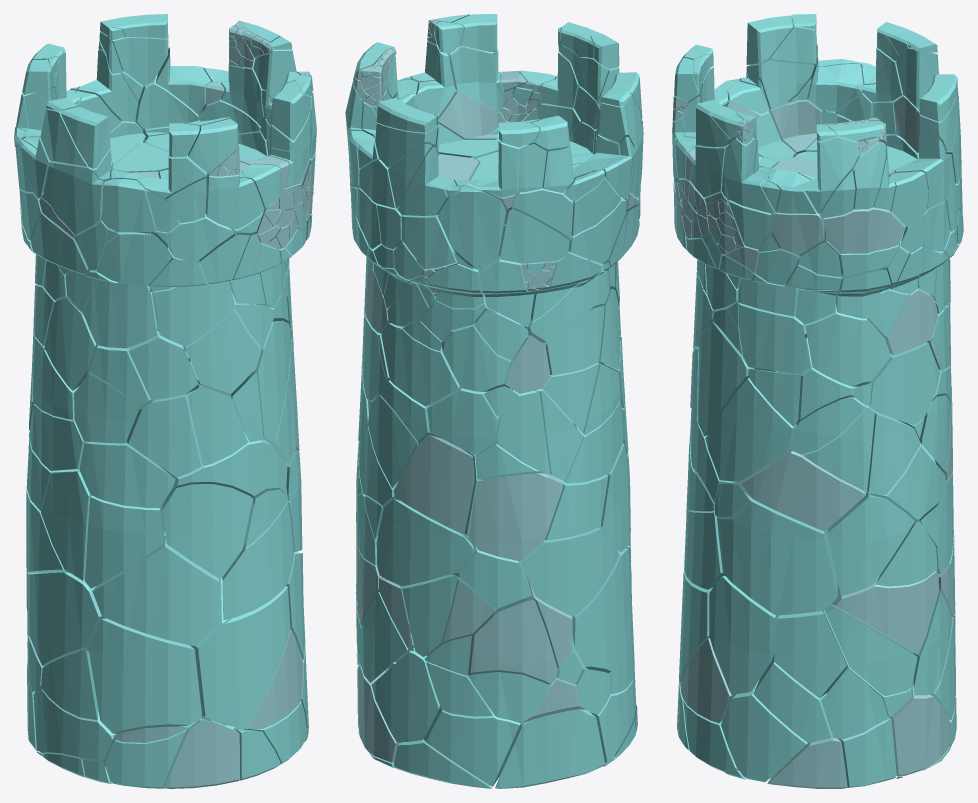
The model's file is towerCracked.fbx.
3 views of the same model, side by side, from view 1: azimuth 30°, elevation 25°; view 2: azimuth 150°, elevation 25°; view 3: azimuth 270°, elevation 25° (orthographic).
Visible parts, largest first — view 1: Cube; view 2: Cube; view 3: Cube.
Part boxes in pixels (x1=…): Cube: x1=14, y1=14, x2=316, y2=788; Cube: x1=345, y1=14, x2=643, y2=788; Cube: x1=672, y1=14, x2=963, y2=788.
Size of the model in its own units: 200 by 473 by 189.
